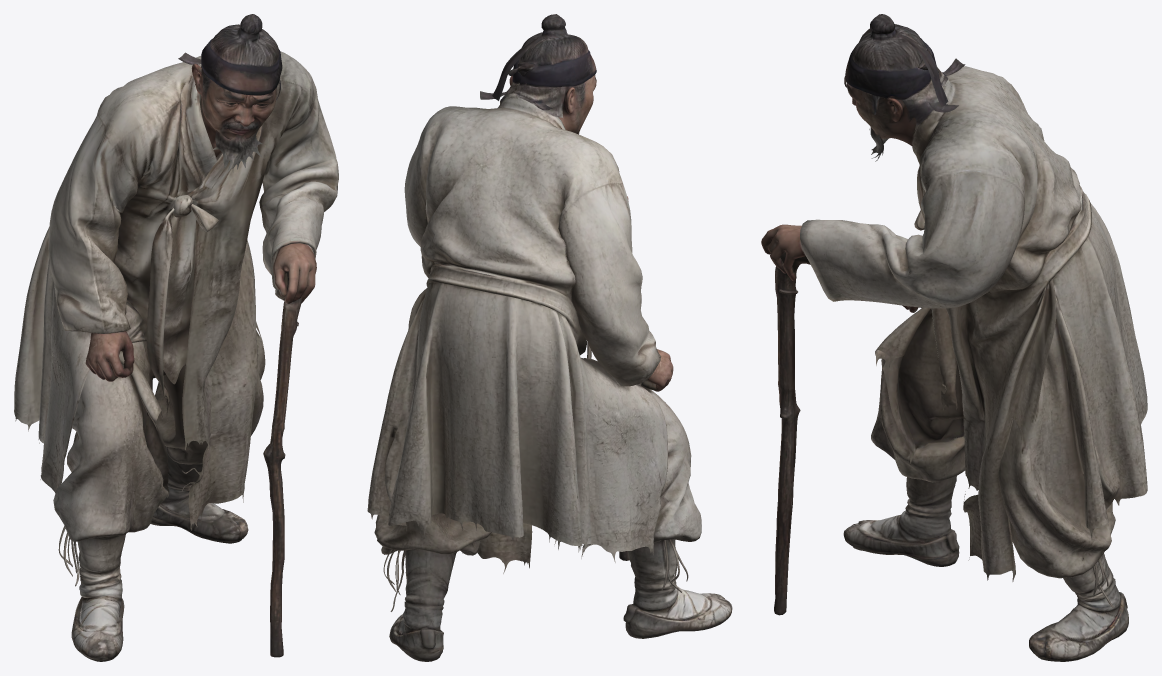
File: cane_grandfather-c87ce8e70f.glb
The picture shows the model from 3 angles, left to right: view 1: azimuth 30°, elevation 25°; view 2: azimuth 150°, elevation 25°; view 3: azimuth 270°, elevation 25°; orthographic projection. The views are drawn at different scales.
Parts seen in each view (by area): view 1: tripo_node_bbbd29e2-9294-4420-b459-425ea012fa76; view 2: tripo_node_bbbd29e2-9294-4420-b459-425ea012fa76; view 3: tripo_node_bbbd29e2-9294-4420-b459-425ea012fa76.
Boxes of the visible parts, x1,y1,x2,y2 form: tripo_node_bbbd29e2-9294-4420-b459-425ea012fa76: (14,14,338,661); tripo_node_bbbd29e2-9294-4420-b459-425ea012fa76: (367,14,732,661); tripo_node_bbbd29e2-9294-4420-b459-425ea012fa76: (761,14,1147,661).
Size of the model in its own units: 0.5006 by 0.9995 by 0.5738.
1 material, 1 textured.
